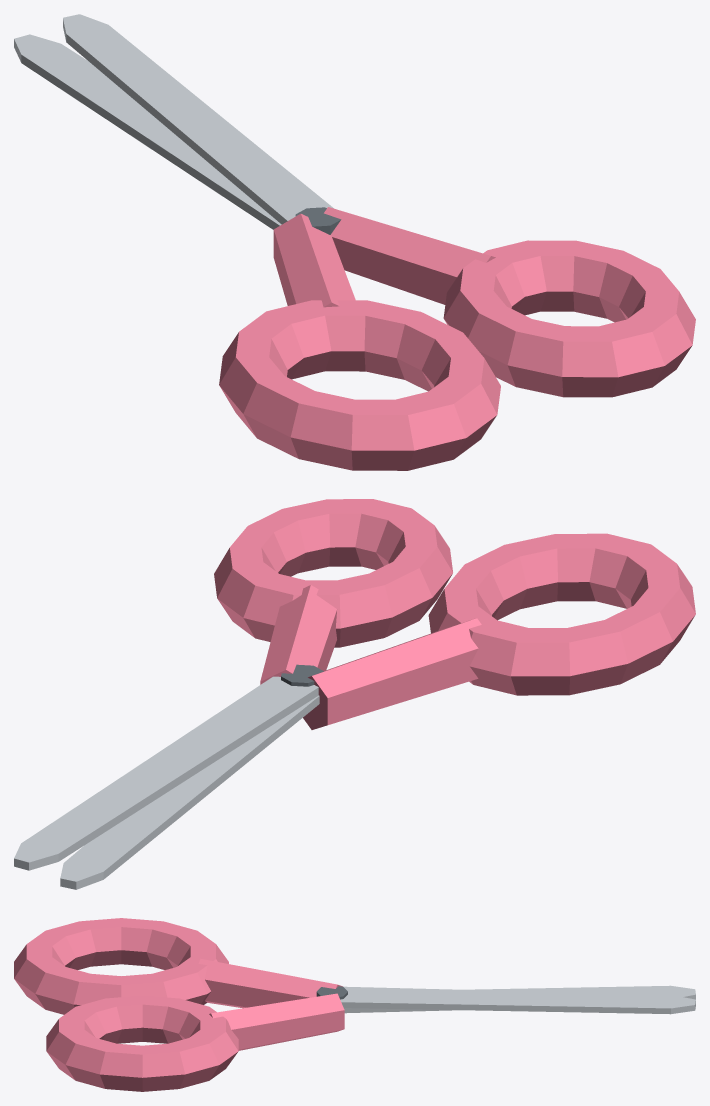
Rendered from kids_scissors.glb.
3 renders of one model, top to bottom at view 1: azimuth 30°, elevation 25°; view 2: azimuth 150°, elevation 25°; view 3: azimuth 270°, elevation 25°, orthographic. The views are drawn at different scales.
Visible parts, largest first — view 1: Torus, Torus.001, prism.001, prism, Cone.001, Cone; view 2: Torus, Torus.001, prism.001, Cone, prism, Cone.001, Cylinder; view 3: Torus.001, Torus, prism.001, Cone.001, Cone, prism.
Boxes of the visible parts, <box> form: Torus: <box>219,300,500,470</box>; Torus.001: <box>443,240,695,397</box>; prism.001: <box>63,14,333,224</box>; prism: <box>14,34,281,229</box>; Cone.001: <box>324,207,495,304</box>; Cone: <box>273,213,355,307</box>; Torus: <box>428,533,695,695</box>; Torus.001: <box>214,499,452,647</box>; prism.001: <box>14,676,318,870</box>; Cone: <box>303,618,481,729</box>; prism: <box>60,695,319,889</box>; Cone.001: <box>260,585,336,684</box>; Cylinder: <box>281,664,323,686</box>; Torus.001: <box>46,995,238,1091</box>; Torus: <box>14,918,228,1014</box>; prism.001: <box>340,986,695,1014</box>; Cone.001: <box>209,993,344,1050</box>; Cone: <box>198,958,342,1008</box>; prism: <box>344,985,695,1013</box>.
Bounding box in the file's own units: 6.54 × 0.9 × 12.93.
